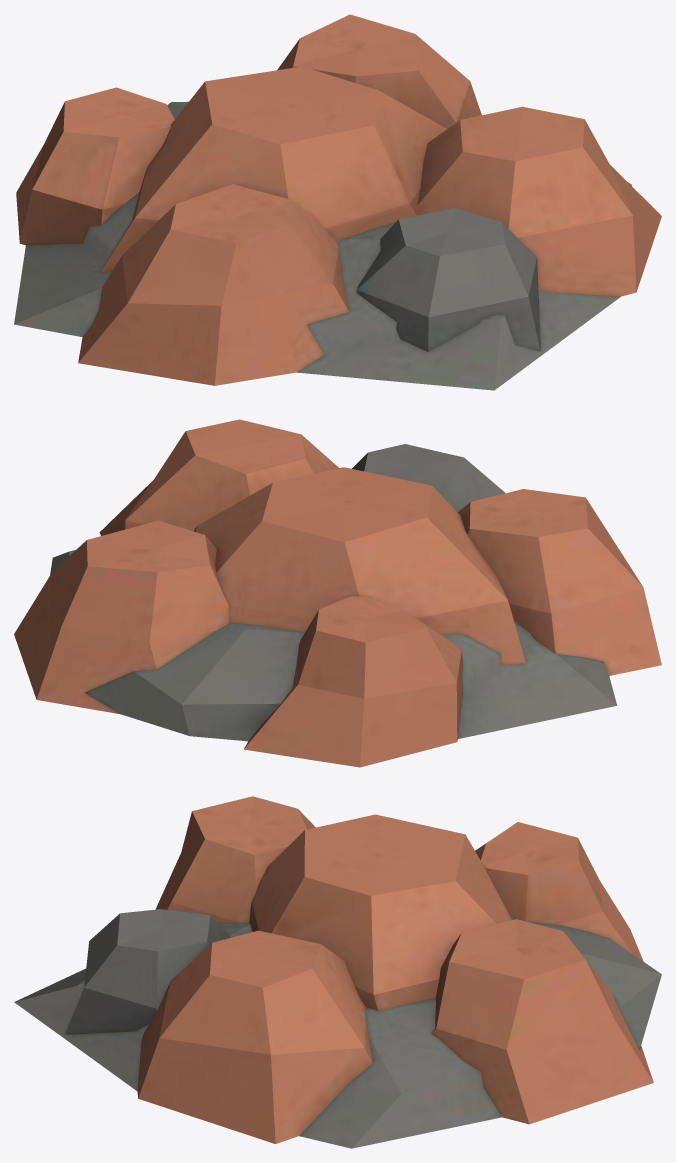
Rendered from jazida_ferro.glb.
3 views of the same model, one above another, from view 1: azimuth 30°, elevation 25°; view 2: azimuth 150°, elevation 25°; view 3: azimuth 270°, elevation 25° (orthographic). The views are drawn at different scales.
Visible parts, largest first — view 1: jazida_ferro_corpo; view 2: jazida_ferro_corpo; view 3: jazida_ferro_corpo.
Part boxes in pixels (x1,y1,x2,y2): jazida_ferro_corpo: [14, 14, 661, 390]; jazida_ferro_corpo: [14, 419, 661, 767]; jazida_ferro_corpo: [14, 796, 661, 1148].
Size of the model in its own units: 0.8 by 0.19 by 0.7738.
1 material, 1 textured.
